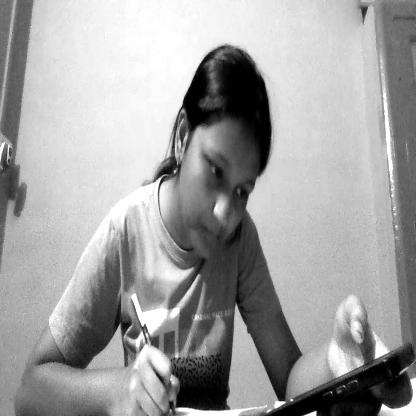Distracted: (171, 50, 278, 266)
